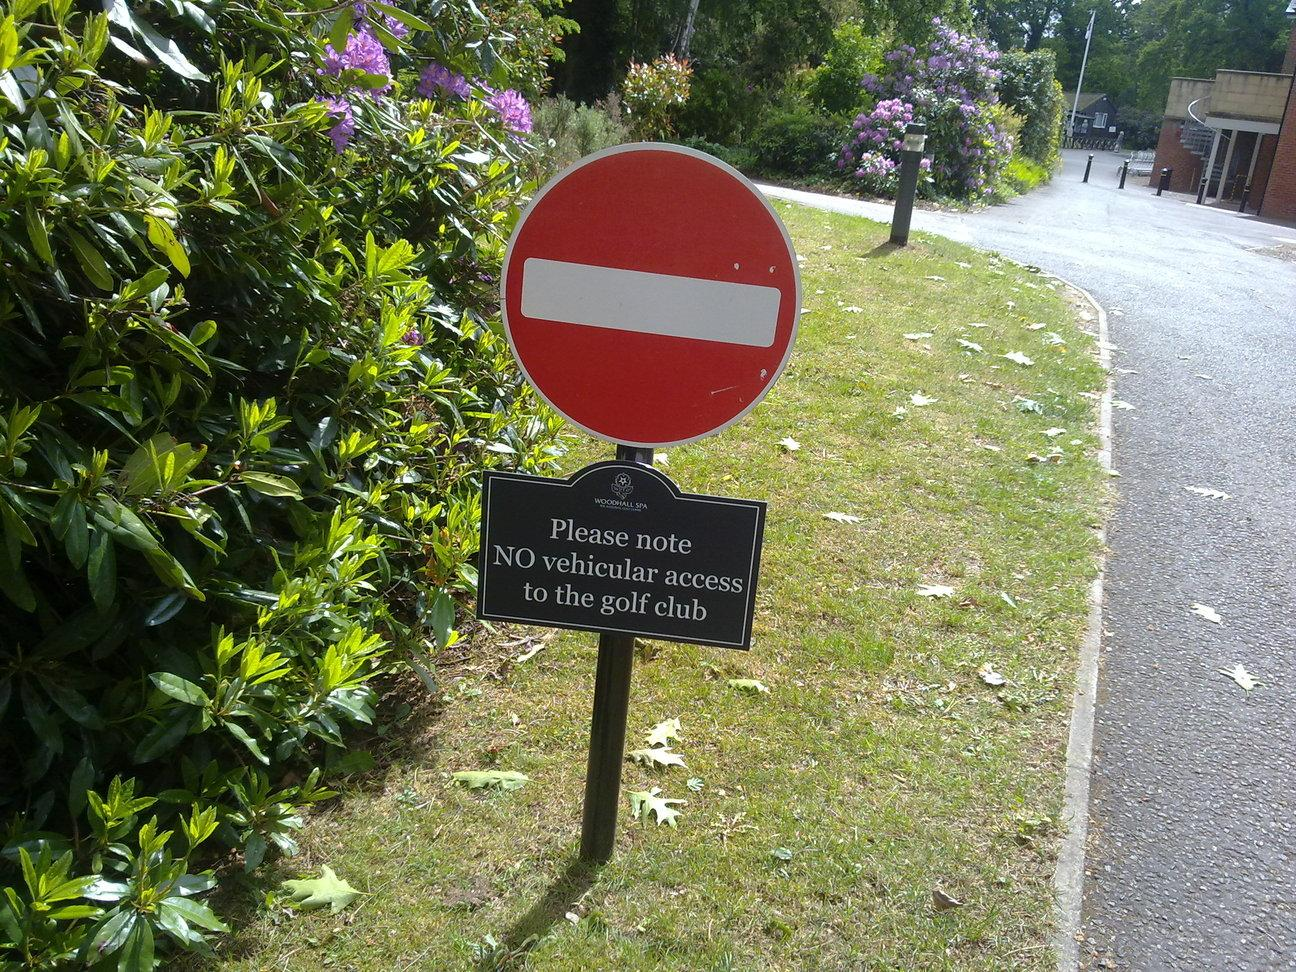no_entry: (498, 140, 800, 446)
